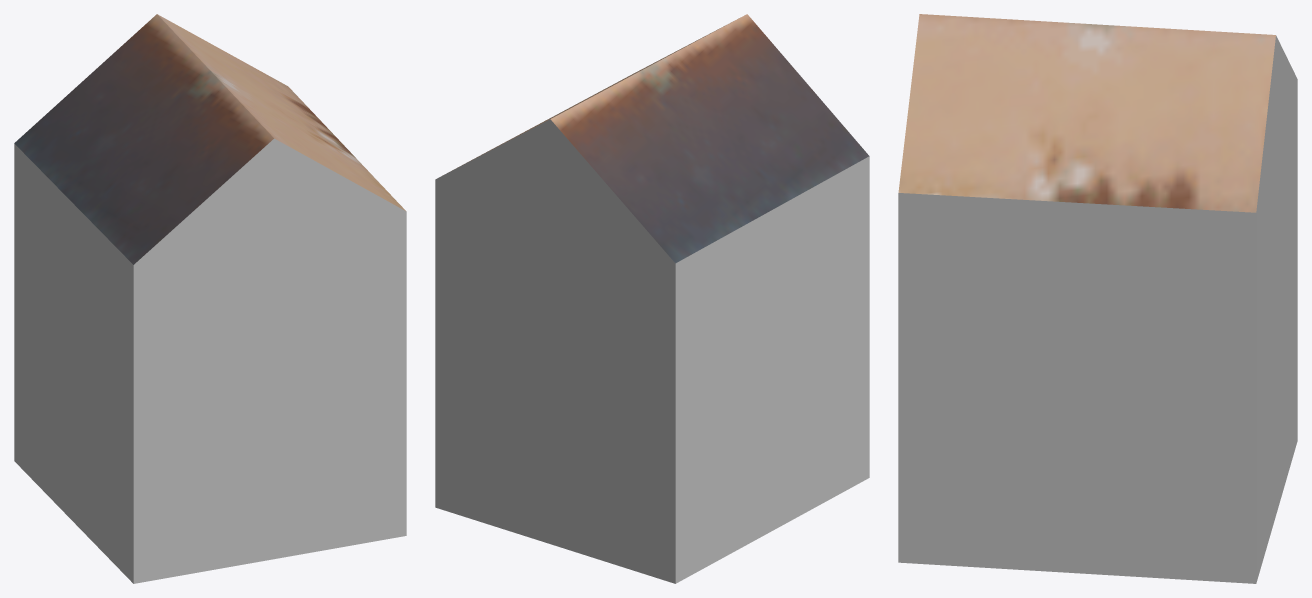
File: DEBW_0010007Txhj.gltf
3 renders of one model, left to right at view 1: azimuth 30°, elevation 25°; view 2: azimuth 150°, elevation 25°; view 3: azimuth 270°, elevation 25°, orthographic. The views are drawn at different scales.
Parts seen in each view (by area): view 1: Z_UP; view 2: Z_UP; view 3: Z_UP.
Part boxes in pixels (<box>): Z_UP: <box>14,14,406,583</box>; Z_UP: <box>435,14,869,583</box>; Z_UP: <box>898,14,1297,583</box>.
Size of the model in its own units: 12.99 by 17.88 by 13.45.
Materials: 2 (1 with a texture image).
